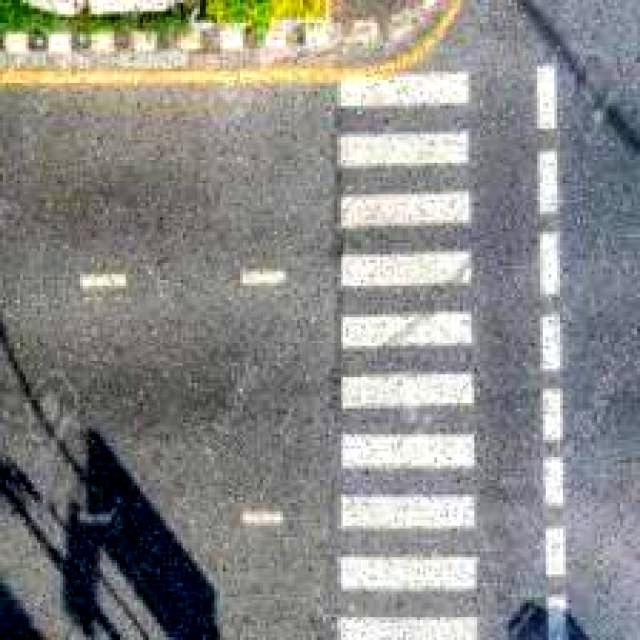crosswalk: (320, 51, 504, 638)
